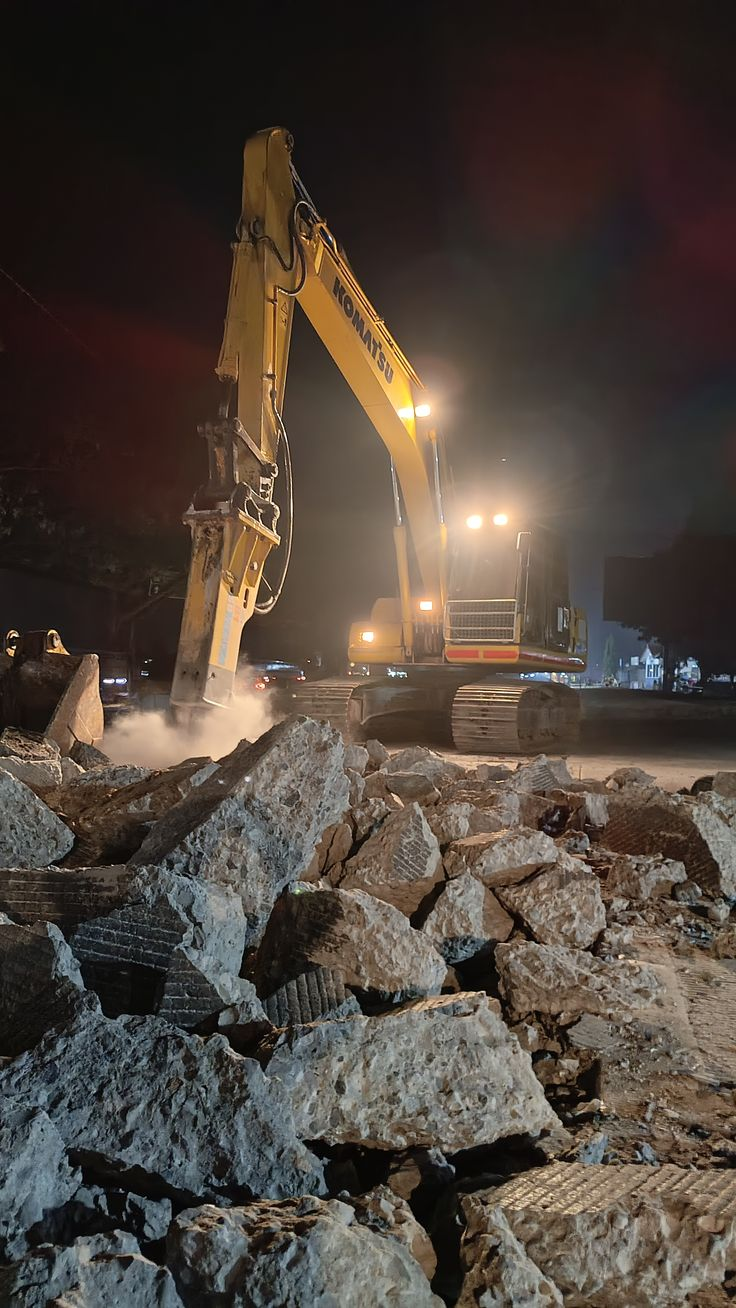excavator: (23, 74, 636, 886)
